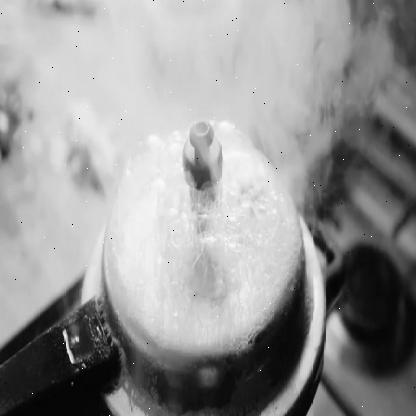smoke: (5, 0, 396, 285)
